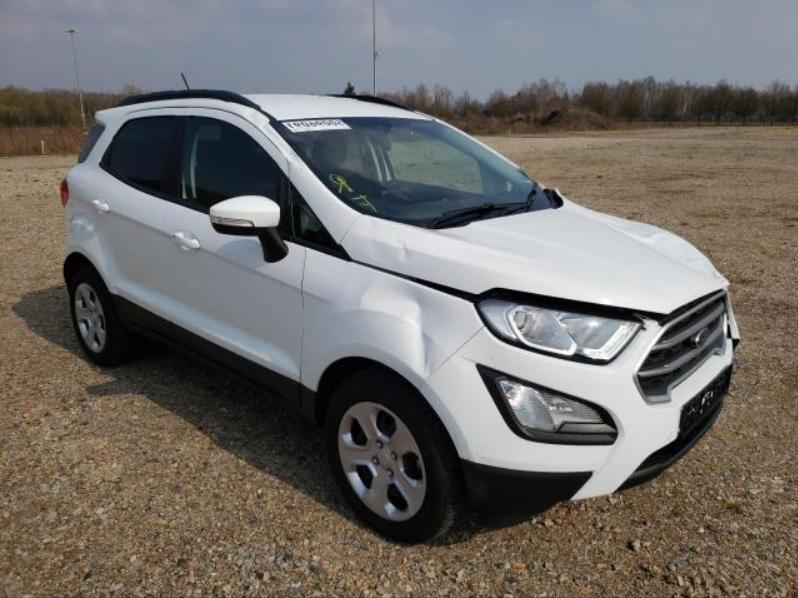Broken part: (345, 258, 725, 324), (722, 310, 741, 394)
Dent: (359, 277, 438, 379), (363, 219, 409, 265), (686, 249, 730, 288), (265, 126, 301, 163), (613, 225, 659, 239), (244, 110, 262, 129)
Missing part: (681, 370, 726, 439)
